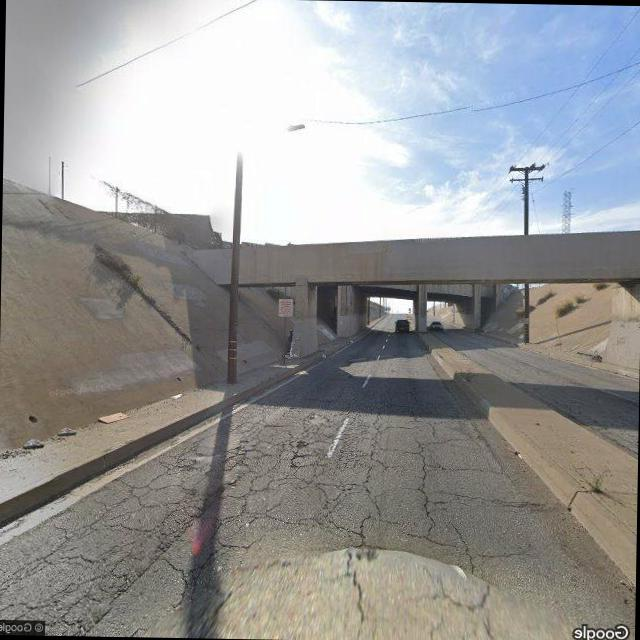crack: (1, 401, 533, 640)
